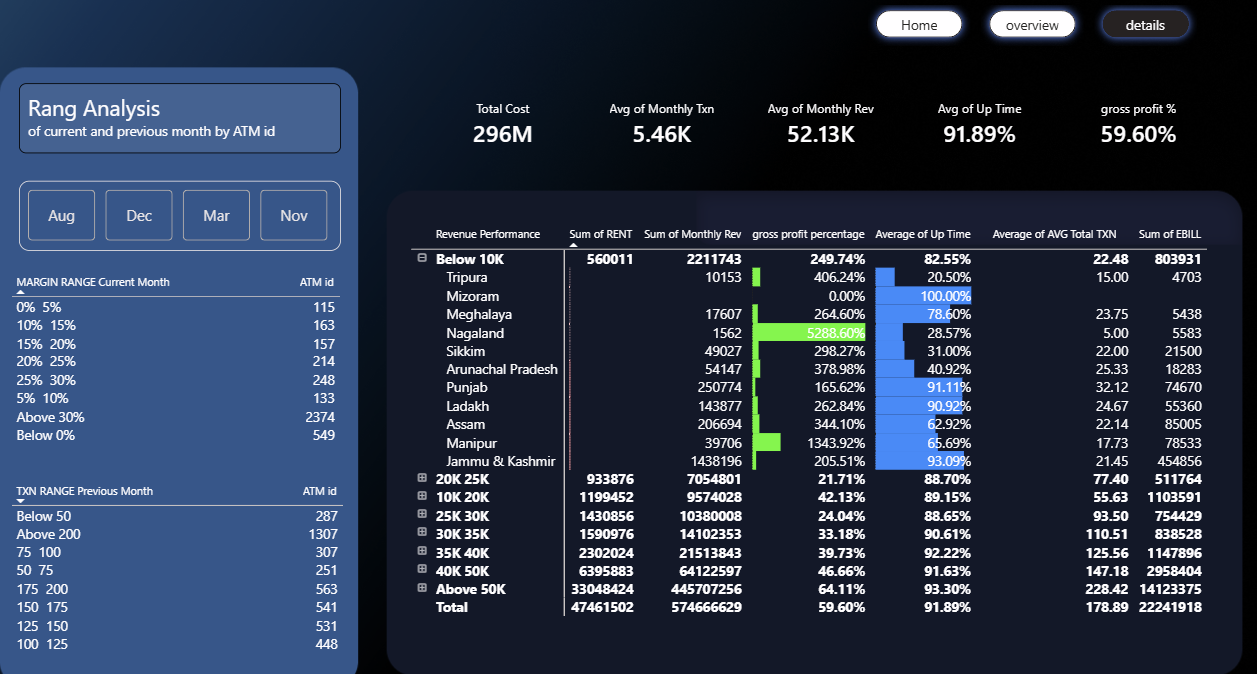

The page's visual inventory and layout, read from the dashboard file:
{"tool":"powerbi","page":{"name":"details","canvas":[1280,720],"ordinal":2},"visuals":[{"type":"advancedSlicerVisual","fields":{"Values":["Sheet1.short_month"]},"box":[49.4,194.9,315.6,68.6],"z":0},{"type":"textbox","box":[49.4,98.8,315.6,68.6],"z":1000},{"type":"pageNavigator","box":[882.5,20,325,43.8],"z":2000},{"type":"tableEx","fields":{"Values":["Sheet1.MARGIN RANGE Current Month","Sheet1.ATM id"]},"box":[35,282.5,342.5,205],"z":3000},{"type":"tableEx","fields":{"Values":["Sheet1.TXN RANGE Previous Month","Sheet1.ATM id"]},"box":[35,487.5,342.5,205],"z":4000},{"type":"pivotTable","fields":{"Rows":["Sheet1.Revenue Performance","Sheet1.STATE"],"Values":["Sum(Sheet1.RENT)","Sum(Sheet1.Monthly Rev)","Sheet1.gross profit percentage","Avg(Sheet1.Up Time)","Avg(Sheet1.AVG Total TXN)","Sum(Sheet1. EBILL )"]},"box":[430,235,806.2,427.5],"z":5000},{"type":"cardVisual","fields":{"Data":["Sum(Sheet1. Total Cost  )","Avg(Sheet1.Monthly Txn)","Avg(Sheet1.Monthly Rev)","Avg(Sheet1.Up Time)","Sheet1.gross profit percentage"]},"box":[433.6,83.7,806.9,111.1],"z":6000}]}

Visuals, with their boxes on the page's 1280x720 design canvas (x1, y1, x2, y2). These are canvas units, not pixel positions in the 1257x674 screenshot, which may show the page scaled, cropped or inside an application window:
advancedSlicerVisual - Sheet1.short_month: bbox(49, 195, 365, 264)
textbox: bbox(49, 99, 365, 167)
pageNavigator: bbox(882, 20, 1208, 64)
tableEx - Sheet1.MARGIN RANGE Current Month x Sheet1.ATM id: bbox(35, 282, 378, 488)
tableEx - Sheet1.TXN RANGE Previous Month x Sheet1.ATM id: bbox(35, 488, 378, 692)
pivotTable - Sheet1.Revenue Performance x Sheet1.STATE: bbox(430, 235, 1236, 662)
cardVisual - Sum(Sheet1. Total Cost  ) x Avg(Sheet1.Monthly Txn): bbox(434, 84, 1240, 195)
